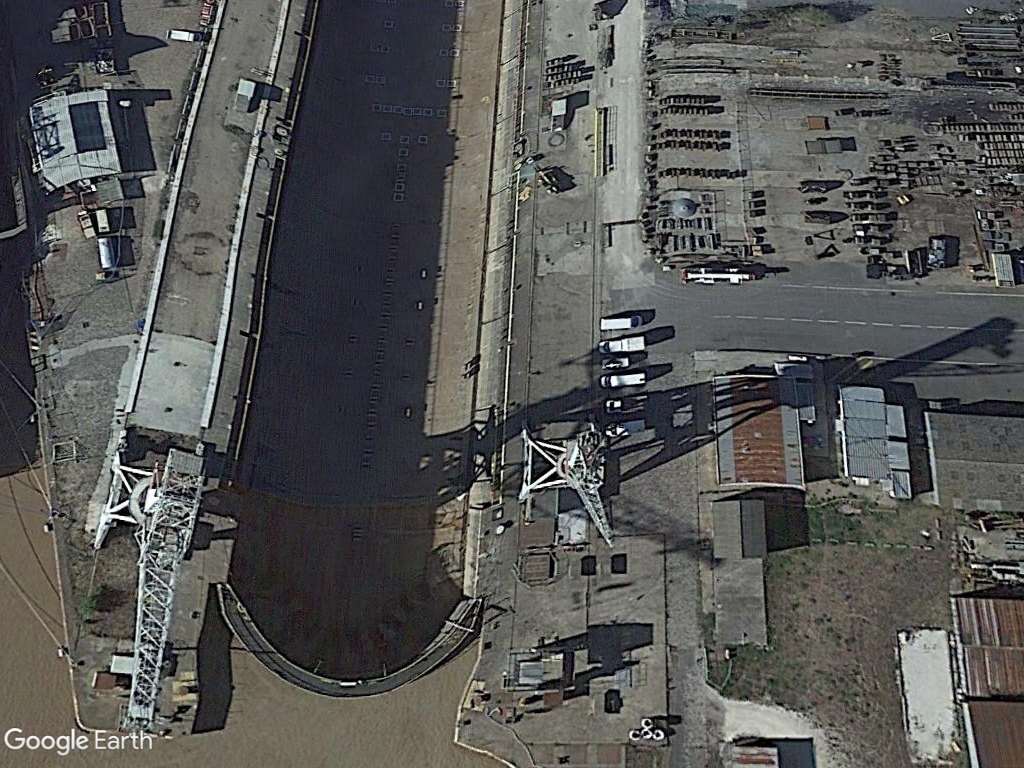van: (594, 368, 653, 391), (597, 312, 648, 334), (594, 336, 648, 356)
